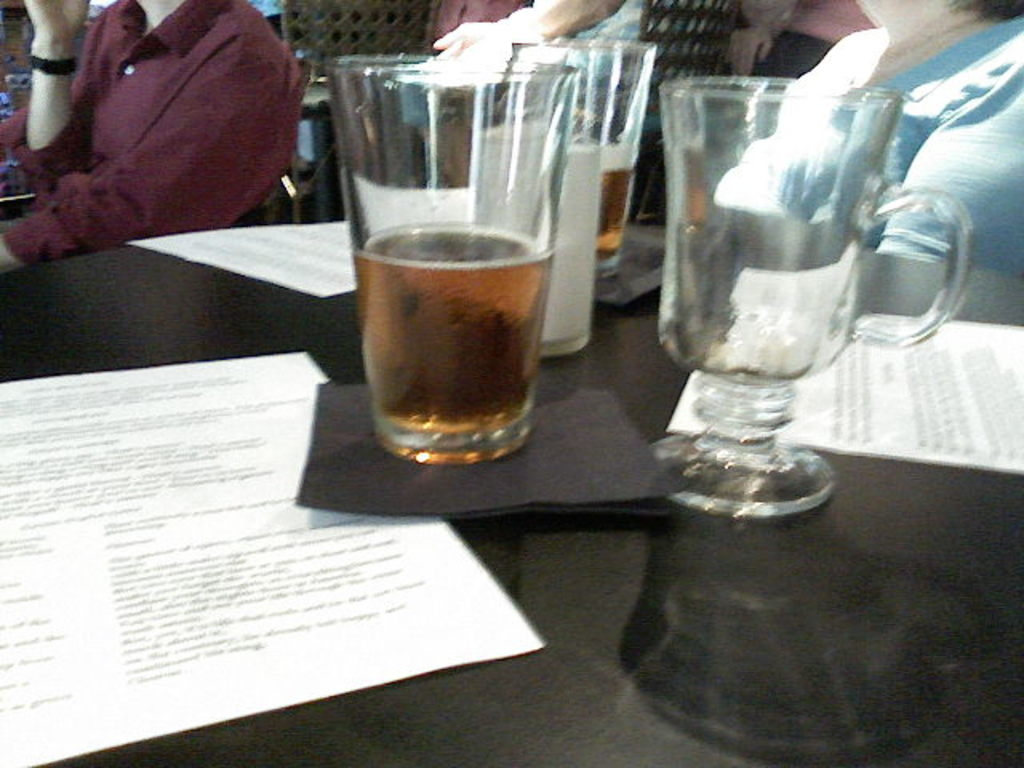Beer: (312, 35, 588, 467), (518, 12, 667, 294)
